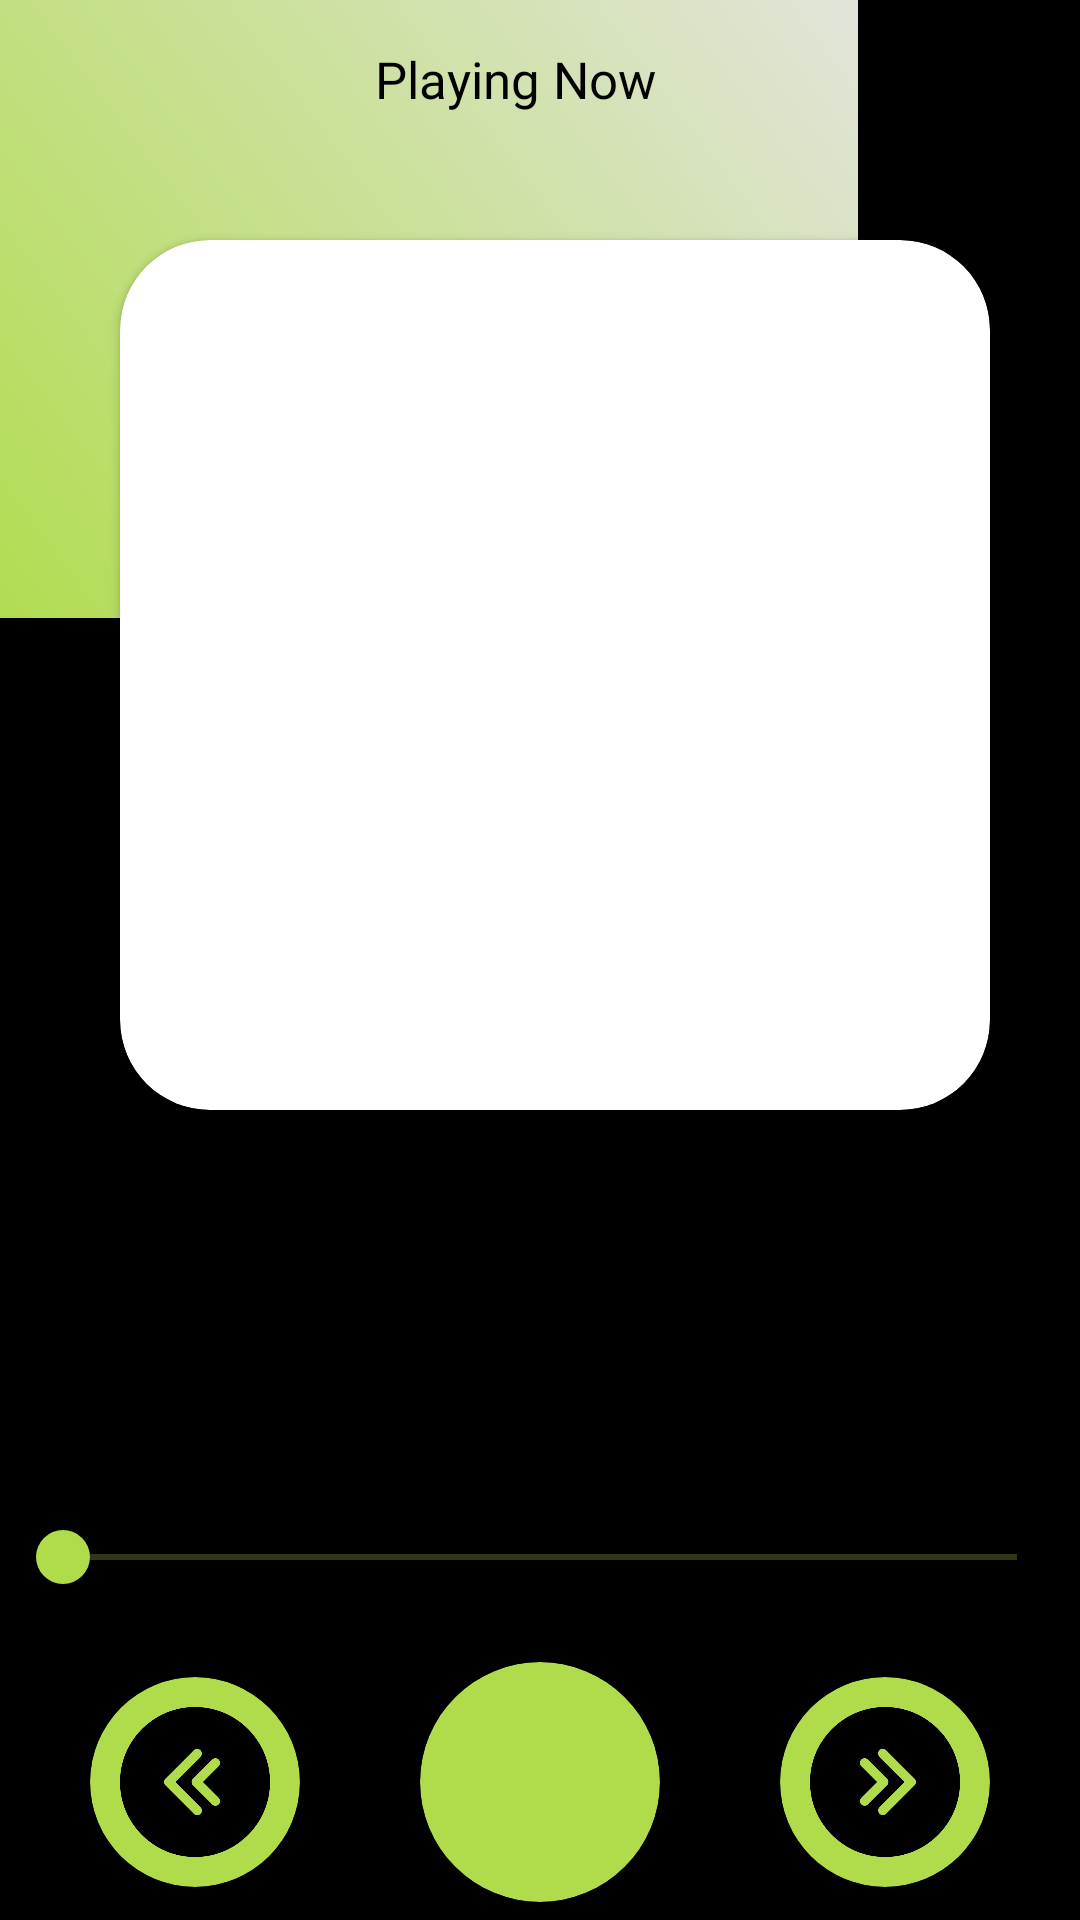

Where icons sit on this 1080x1920 app screen, as (x1, y1, x2, y2):
forwardbutton: (810, 1707, 960, 1857)
rewindbutton: (120, 1707, 270, 1857)
